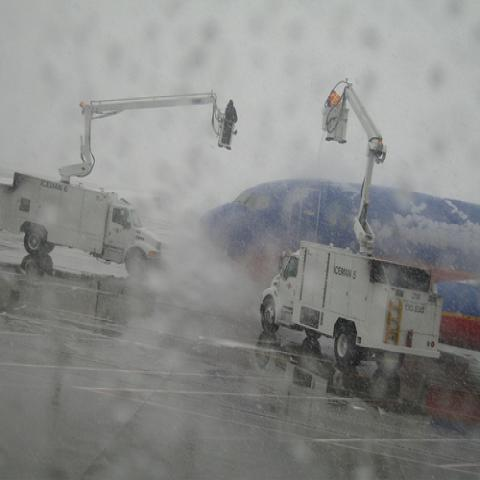truck: (260, 241, 443, 376), (0, 173, 163, 280)
